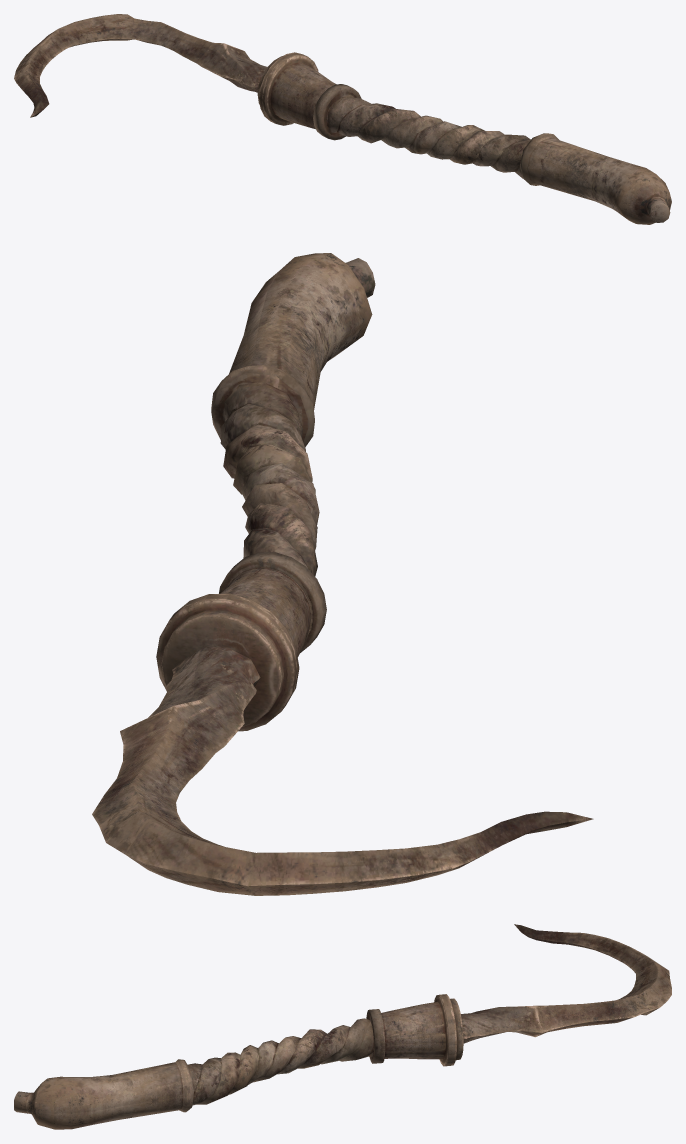
The model's file is ivorysickle.fbx.
The picture shows the model from 3 angles, top to bottom: view 1: azimuth 30°, elevation 25°; view 2: azimuth 150°, elevation 25°; view 3: azimuth 270°, elevation 25°; orthographic projection. The views are drawn at different scales.
Visible parts, largest first — view 1: WP_A_0122; view 2: WP_A_0122; view 3: WP_A_0122.
Part boxes in pixels (x1,y1,x2,y2): WP_A_0122: (14,14,671,224); WP_A_0122: (92,253,593,895); WP_A_0122: (14,924,671,1129).
Bounding box in the file's own units: 20.2 × 3.27 × 29.66.
1 material, 1 textured.
